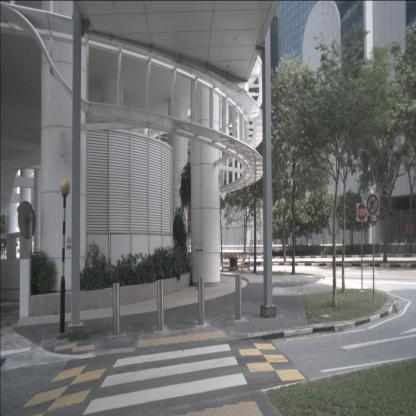movable_object-trafficcone: (240, 260, 244, 272)
